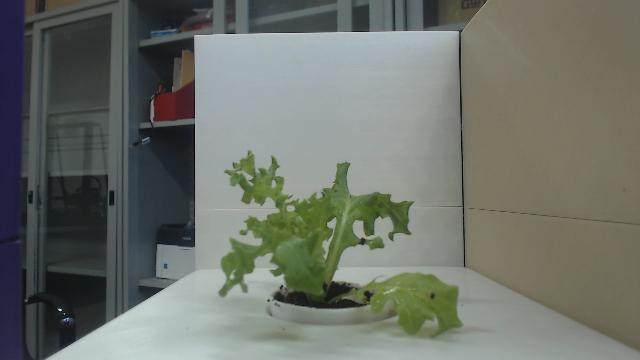Vegetative Stage: (216, 148, 464, 340)
